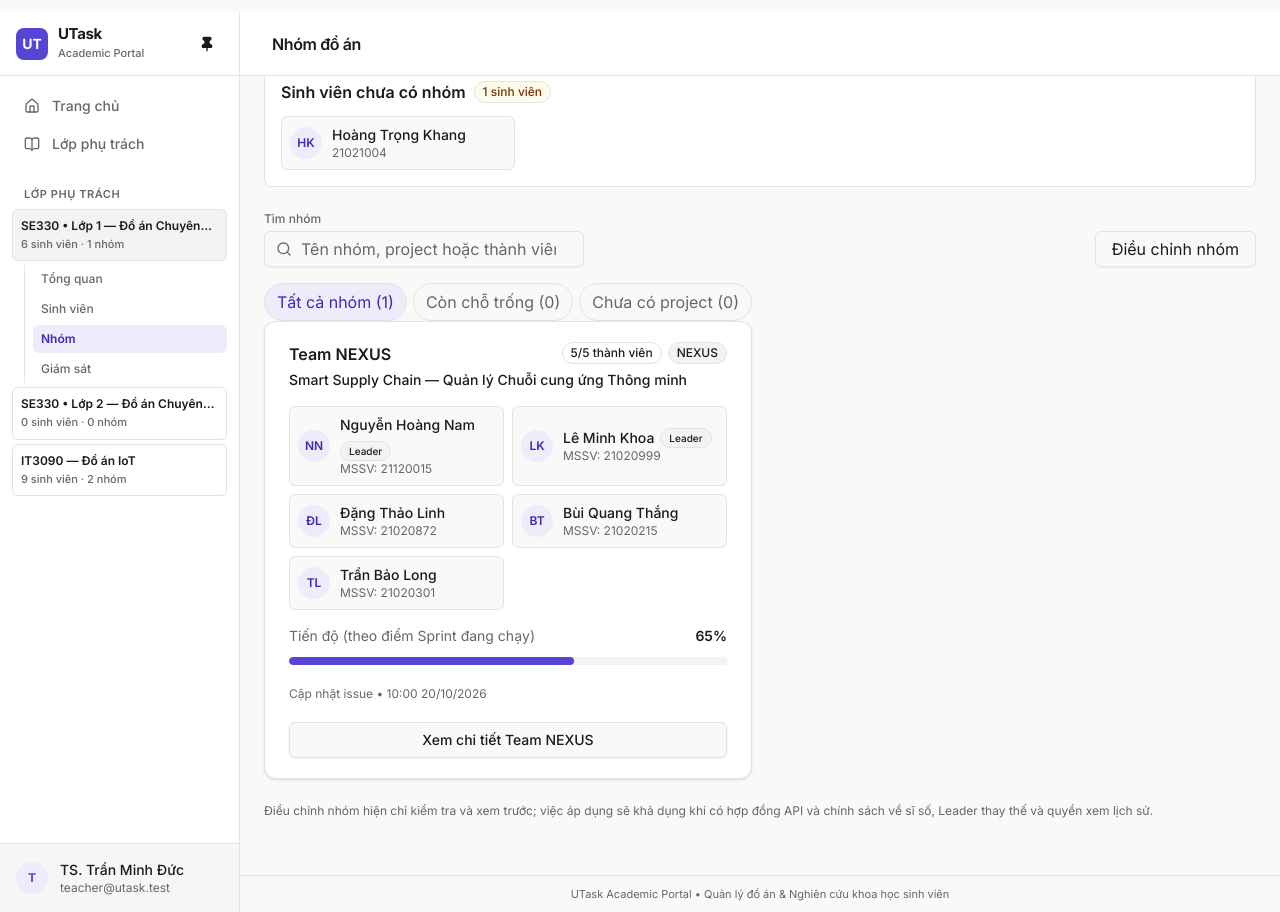
Test: Team dashboard (T08) › opens from the team list and from oversight, and goes on into the workspace
The image size is (1280, 912).
(page scrolled)
Click the link "Xem chi tiết Team NEXUS" at (508, 740), box [289,722,727,758]
(page scrolled)
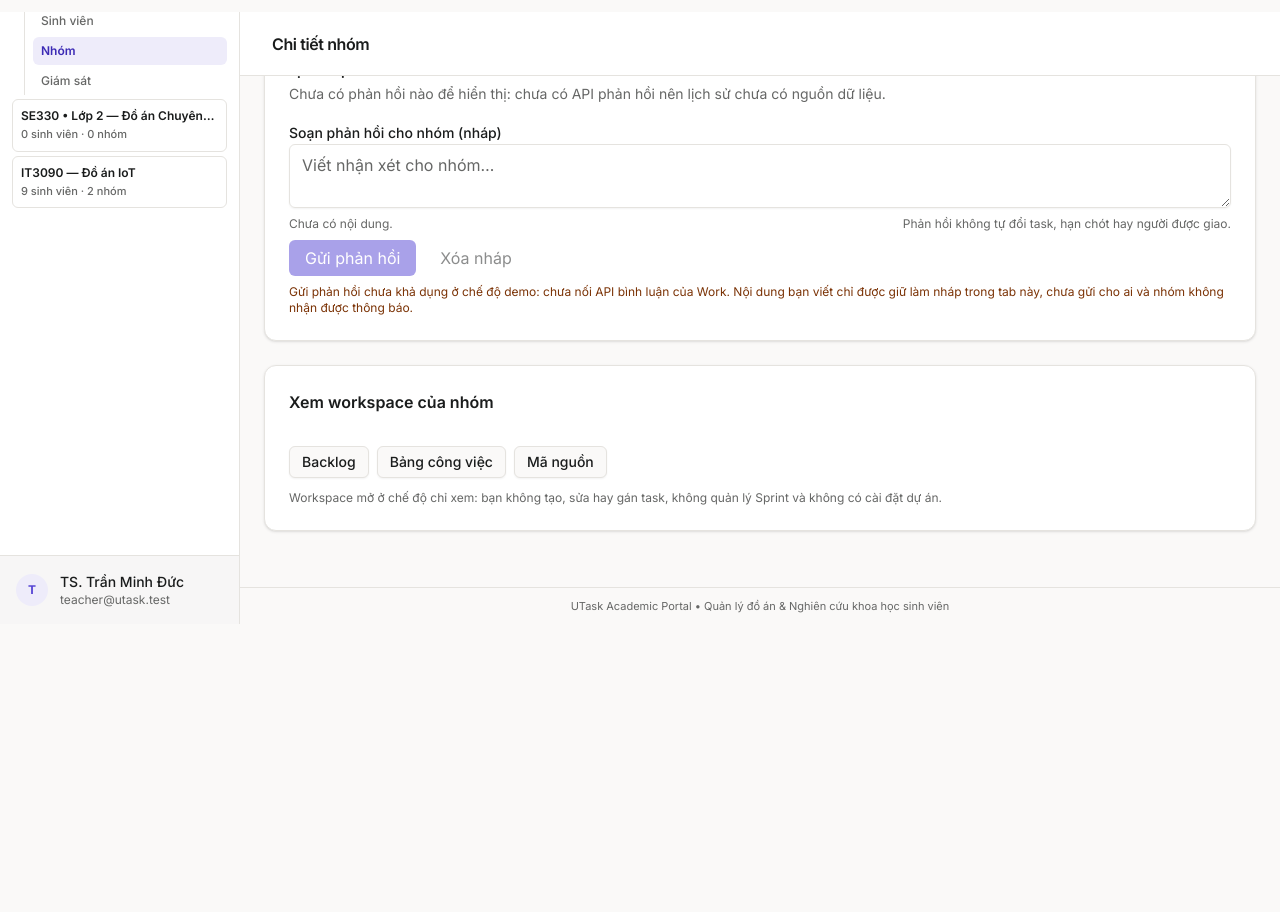
Click the link "Bảng công việc" at (441, 462), box [377,446,506,478]
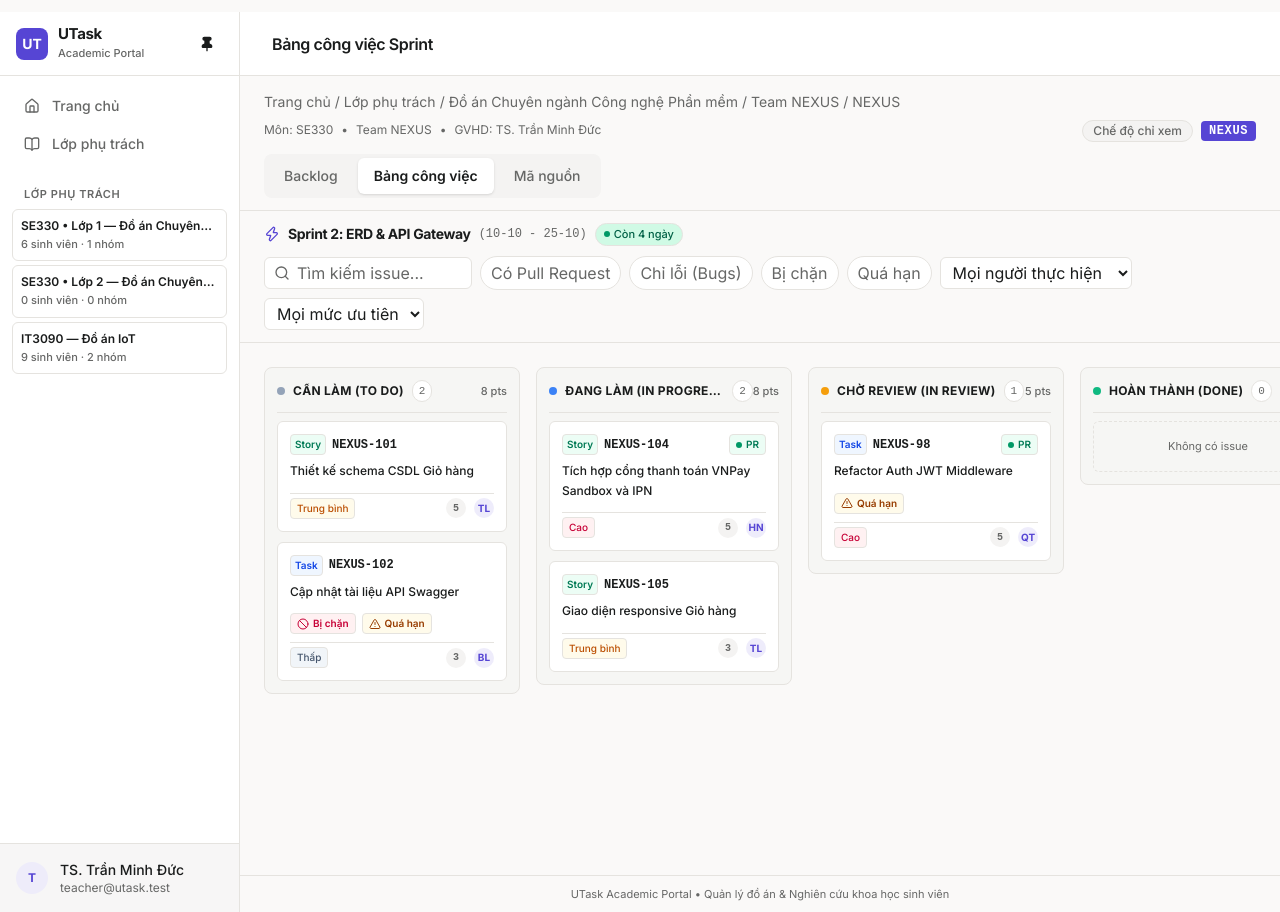
Expected: the navigation bar named "Breadcrumb" is shown, [264,93,900,110]
